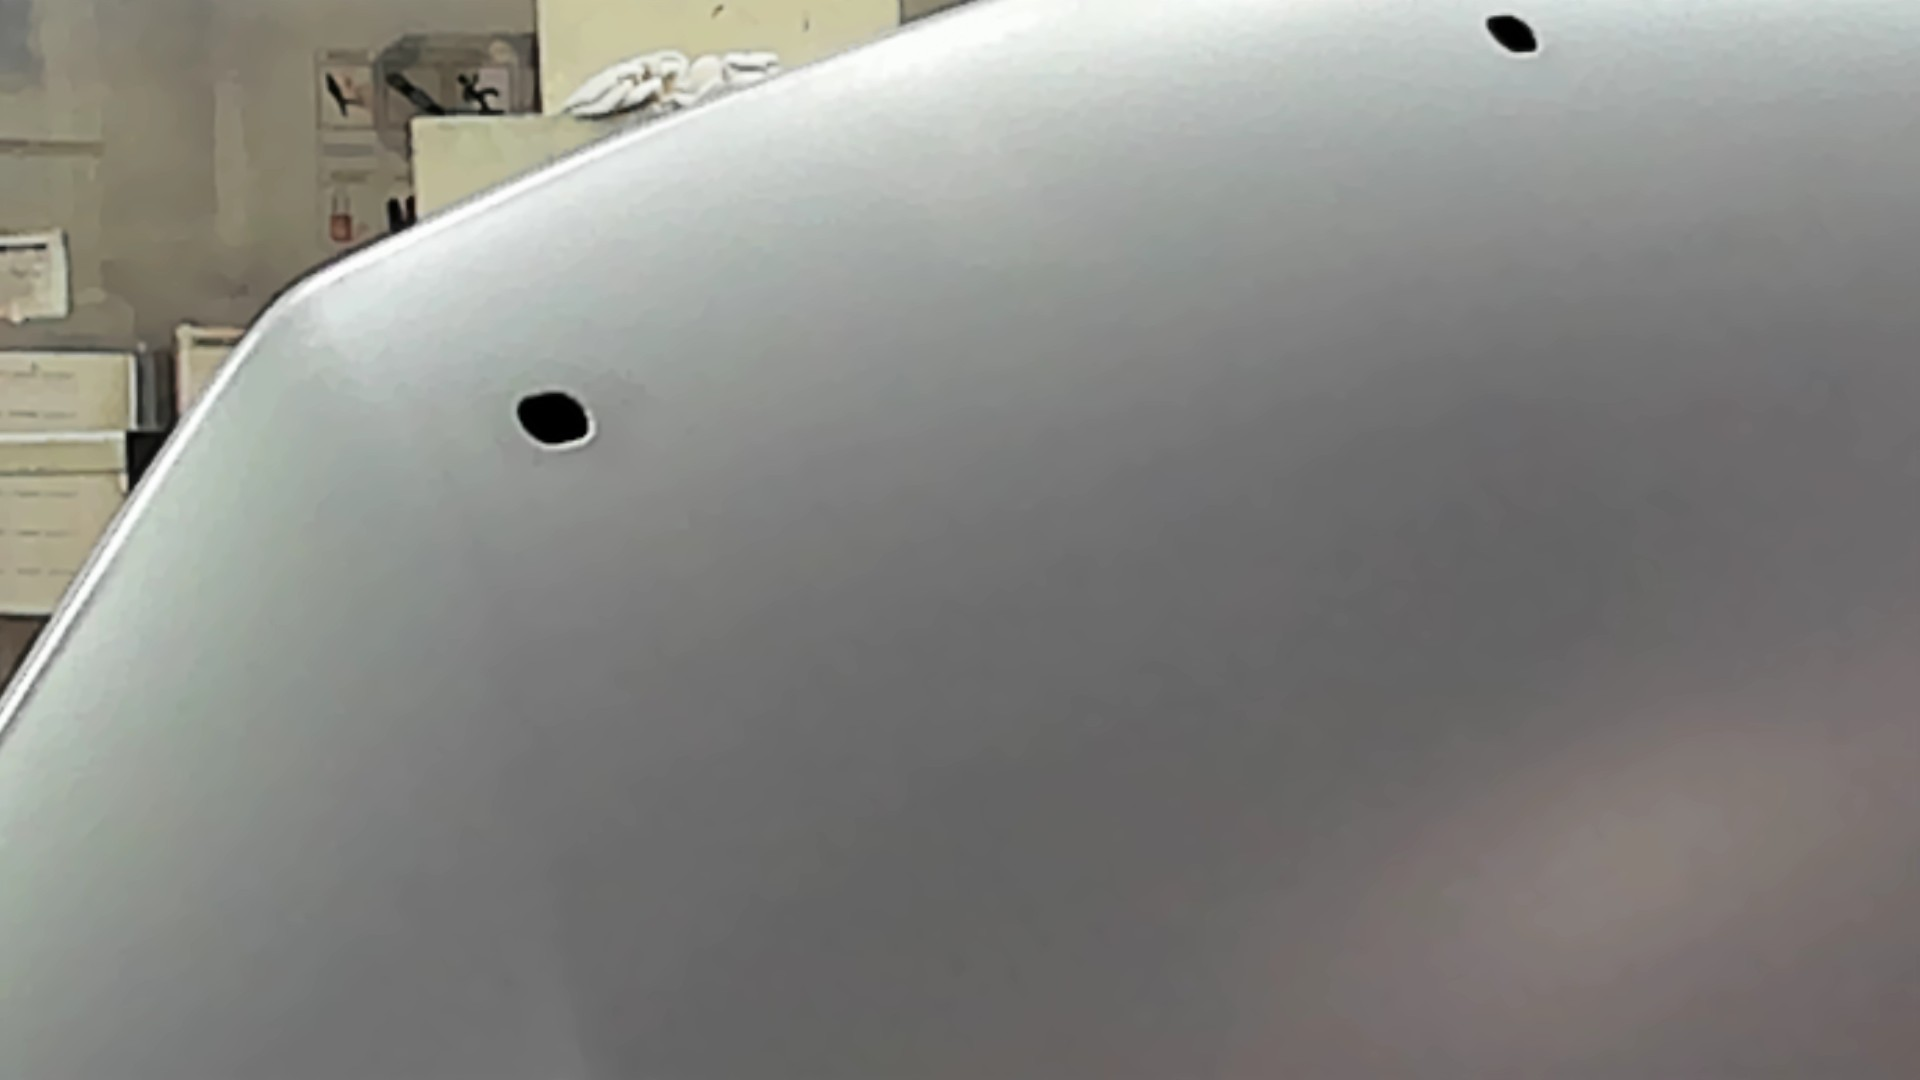amorfo: (506, 388, 615, 454), (1476, 7, 1547, 65)
capo: (717, 142, 1920, 1080)
